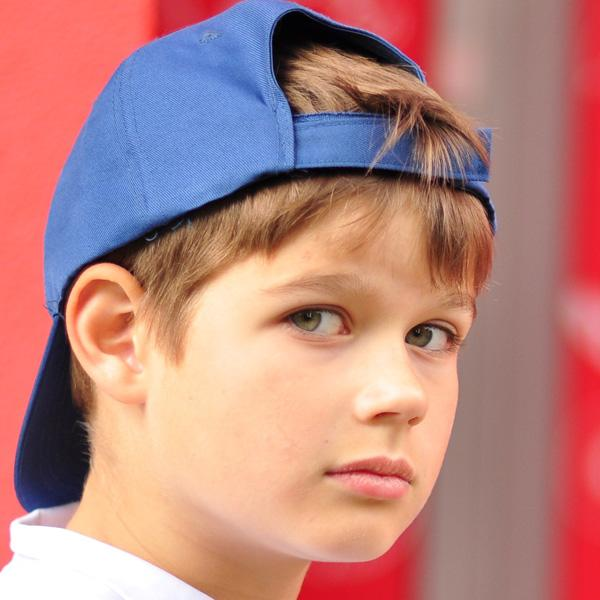Eyes: (267, 289, 359, 351), (395, 309, 463, 362)
